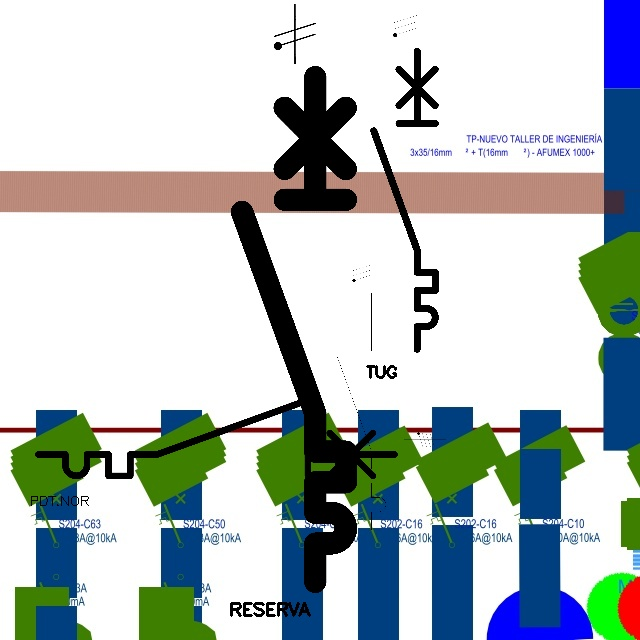interruptor_termomagnetico: (229, 64, 359, 595), (29, 394, 403, 485), (366, 43, 443, 356), (331, 287, 392, 536)
